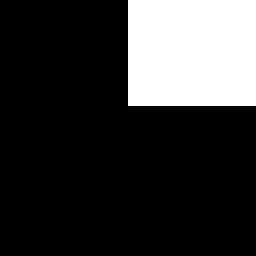rumex: (128, 0, 256, 105)
